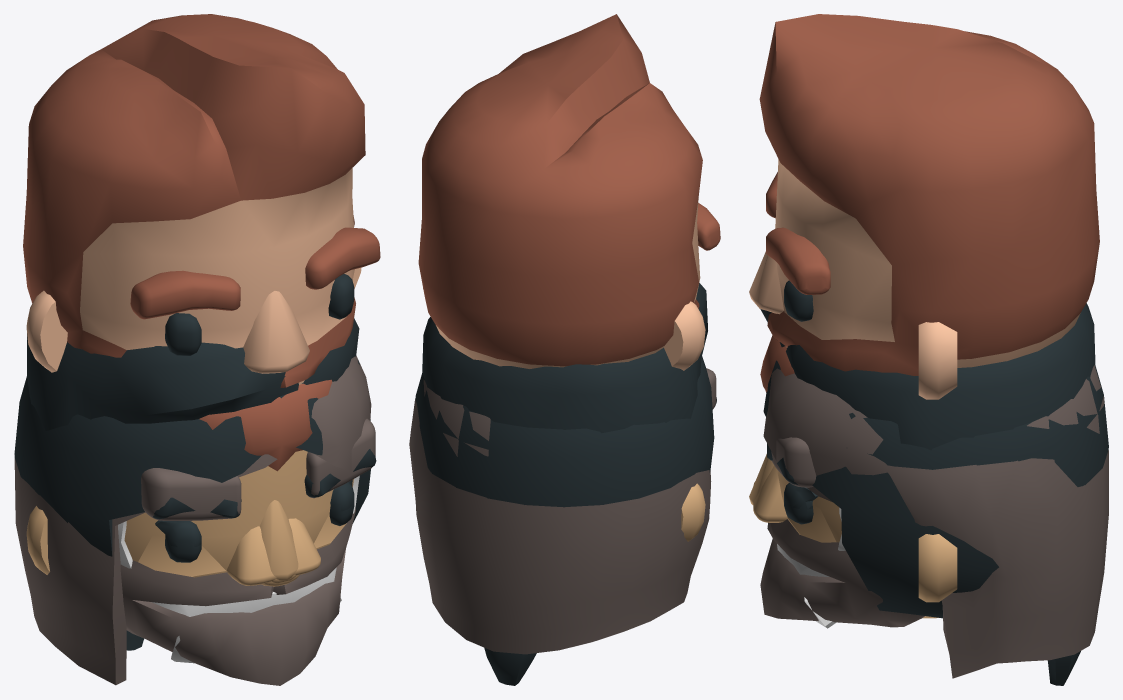
File: character_polarExplorerHeadB.dae
3 renders of one model, left to right at view 1: azimuth 30°, elevation 25°; view 2: azimuth 150°, elevation 25°; view 3: azimuth 270°, elevation 25°, orthographic. The views are drawn at different scales.
Parts seen in each view (by area): view 1: character_polarExplorerHeadB, barbarianHeadC, knightHeadC, mageHairC, rogueHairC, mageHeadC, skull, rogueHeadC; view 2: character_polarExplorerHeadB, rogueHairC, mageHairC, knightHeadC, mageHeadC; view 3: character_polarExplorerHeadB, rogueHairC, mageHairC, knightHeadC, barbarianHeadC, mageHeadC, skull.
Part boxes in pixels (<box>): character_polarExplorerHeadB: <box>23,14,380,471</box>; barbarianHeadC: <box>120,418,375,685</box>; knightHeadC: <box>27,318,376,580</box>; mageHairC: <box>14,360,370,650</box>; rogueHairC: <box>14,356,371,685</box>; mageHeadC: <box>26,480,354,586</box>; skull: <box>118,475,359,663</box>; rogueHeadC: <box>165,496,354,583</box>; character_polarExplorerHeadB: <box>418,14,720,370</box>; rogueHairC: <box>409,379,711,654</box>; mageHairC: <box>415,356,714,685</box>; knightHeadC: <box>422,283,716,433</box>; mageHeadC: <box>681,483,705,541</box>; character_polarExplorerHeadB: <box>749,14,1099,399</box>; rogueHairC: <box>763,365,1108,678</box>; mageHairC: <box>763,348,1108,685</box>; knightHeadC: <box>749,303,1095,542</box>; barbarianHeadC: <box>753,437,928,627</box>; mageHeadC: <box>784,483,957,618</box>; skull: <box>777,507,845,628</box>.
Size of the model in its own units: 1.18 by 1.13 by 2.33.
